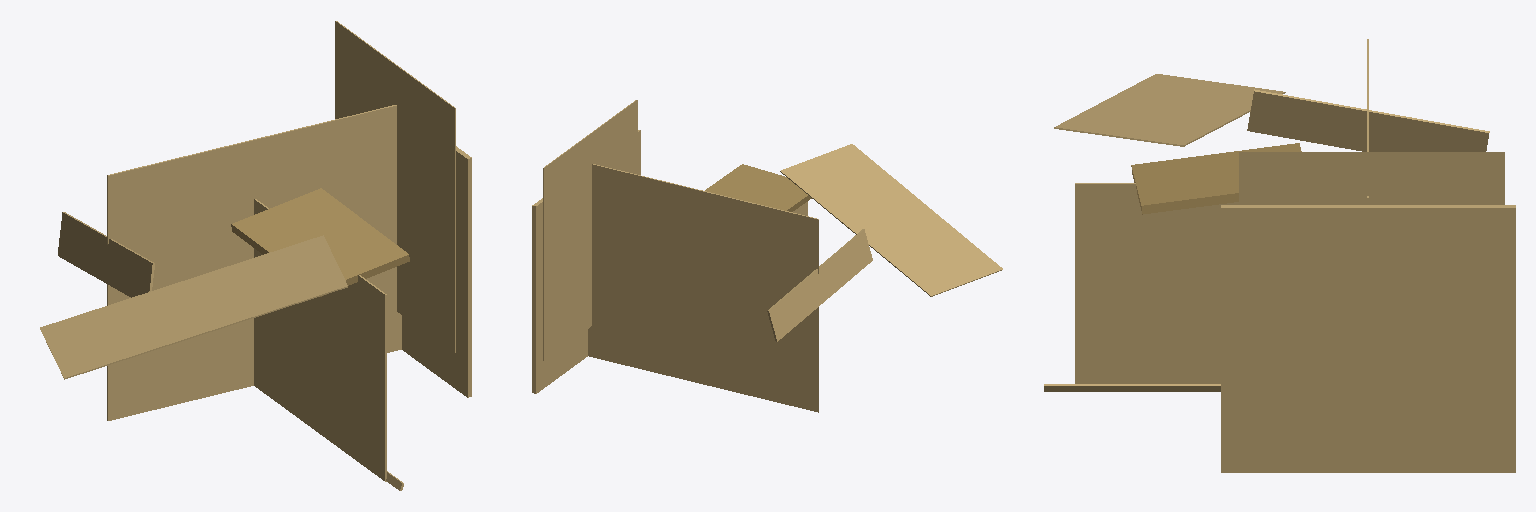
URDF robot description (evolved_design):
<?xml version="1.0" ?>
<robot name="evolved_design">
  <link name="base_link">
    <inertial>
      <mass value="0.001"/>
      <origin xyz="0 0 0" rpy="0 0 0"/>
      <inertia ixx="0.000001" ixy="0" ixz="0" iyy="0.000001" iyz="0" izz="0.000001"/>
    </inertial>
  </link>
  <link name="link_comp_0">
    <inertial>
      <mass value="0.838824"/>
      <origin xyz="0 0 0" rpy="0 0 0"/>
      <inertia ixx="0.039485466" ixy="0" ixz="0" iyy="0.015063259" iyz="0" izz="0.024425033"/>
    </inertial>
    <visual>
      <origin xyz="0 0 0" rpy="0 0 0"/>
      <geometry>
        <box size="0.004496 0.591099 0.464189"/>
      </geometry>
      <material name="link_comp_0_material">
        <color rgba="0.8 0.7 0.5 1"/>
      </material>
    </visual>
    <collision>
      <origin xyz="0 0 0" rpy="0 0 0"/>
      <geometry>
        <box size="0.004496 0.591099 0.464189"/>
      </geometry>
    </collision>
  </link>
  <joint name="base_link_to_link_comp_0" type="fixed">
    <parent link="base_link"/>
    <child link="link_comp_0"/>
    <origin xyz="0.002248 0.295550 0.232094" rpy="0.000000 0.000000 0.000000"/>
  </joint>
  <link name="link_comp_1">
    <inertial>
      <mass value="1.500321"/>
      <origin xyz="0 0 0" rpy="0 0 0"/>
      <inertia ixx="0.046464279" ixy="0" ixz="0" iyy="0.119057487" iyz="0" izz="0.072598849"/>
    </inertial>
    <visual>
      <origin xyz="0 0 0" rpy="0 0 0"/>
      <geometry>
        <box size="0.762000 0.004750 0.609600"/>
      </geometry>
      <material name="link_comp_1_material">
        <color rgba="0.8 0.7 0.5 1"/>
      </material>
    </visual>
    <collision>
      <origin xyz="0 0 0" rpy="0 0 0"/>
      <geometry>
        <box size="0.762000 0.004750 0.609600"/>
      </geometry>
    </collision>
  </link>
  <joint name="base_link_to_link_comp_1" type="fixed">
    <parent link="base_link"/>
    <child link="link_comp_1"/>
    <origin xyz="0.002716 0.593974 0.304800" rpy="0.000000 0.000000 0.000000"/>
  </joint>
  <link name="link_comp_2">
    <inertial>
      <mass value="0.212601"/>
      <origin xyz="0 0 0" rpy="0 0 0"/>
      <inertia ixx="0.004343697" ixy="0" ixz="0" iyy="0.000183588" iyz="0" izz="0.004161537"/>
    </inertial>
    <visual>
      <origin xyz="0 0 0" rpy="0 0 0"/>
      <geometry>
        <box size="0.006350 0.484616 0.101598"/>
      </geometry>
      <material name="link_comp_2_material">
        <color rgba="0.8 0.7 0.5 1"/>
      </material>
    </visual>
    <collision>
      <origin xyz="0 0 0" rpy="0 0 0"/>
      <geometry>
        <box size="0.006350 0.484616 0.101598"/>
      </geometry>
    </collision>
  </link>
  <joint name="base_link_to_link_comp_2" type="fixed">
    <parent link="base_link"/>
    <child link="link_comp_2"/>
    <origin xyz="-0.381959 0.594301 0.401203" rpy="-0.157783 0.189511 -0.115635"/>
  </joint>
  <link name="link_comp_3">
    <inertial>
      <mass value="0.667781"/>
      <origin xyz="0 0 0" rpy="0 0 0"/>
      <inertia ixx="0.036755775" ixy="0" ixz="0" iyy="0.020680131" iyz="0" izz="0.016076644"/>
    </inertial>
    <visual>
      <origin xyz="0 0 0" rpy="0 0 0"/>
      <geometry>
        <box size="0.002997 0.537483 0.609600"/>
      </geometry>
      <material name="link_comp_3_material">
        <color rgba="0.8 0.7 0.5 1"/>
      </material>
    </visual>
    <collision>
      <origin xyz="0 0 0" rpy="0 0 0"/>
      <geometry>
        <box size="0.002997 0.537483 0.609600"/>
      </geometry>
    </collision>
  </link>
  <joint name="base_link_to_link_comp_3" type="fixed">
    <parent link="base_link"/>
    <child link="link_comp_3"/>
    <origin xyz="0.373635 0.601388 0.402598" rpy="0.000000 0.000000 0.000000"/>
  </joint>
  <link name="link_comp_4">
    <inertial>
      <mass value="0.402039"/>
      <origin xyz="0 0 0" rpy="0 0 0"/>
      <inertia ixx="0.002556598" ixy="0" ixz="0" iyy="0.015226902" iyz="0" izz="0.017782824"/>
    </inertial>
    <visual>
      <origin xyz="0 0 0" rpy="0 0 0"/>
      <geometry>
        <box size="0.674151 0.276222 0.003175"/>
      </geometry>
      <material name="link_comp_4_material">
        <color rgba="0.8 0.7 0.5 1"/>
      </material>
    </visual>
    <collision>
      <origin xyz="0 0 0" rpy="0 0 0"/>
      <geometry>
        <box size="0.674151 0.276222 0.003175"/>
      </geometry>
    </collision>
  </link>
  <joint name="base_link_to_link_comp_4" type="fixed">
    <parent link="base_link"/>
    <child link="link_comp_4"/>
    <origin xyz="-0.386332 0.191987 0.445941" rpy="0.000000 -0.253033 -0.321895"/>
  </joint>
  <link name="link_comp_6">
    <inertial>
      <mass value="3.057755"/>
      <origin xyz="0 0 0" rpy="0 0 0"/>
      <inertia ixx="0.180447841" ixy="0" ixz="0" iyy="0.089643326" iyz="0" izz="0.090886713"/>
    </inertial>
    <visual>
      <origin xyz="0 0 0" rpy="0 0 0"/>
      <geometry>
        <box size="0.012700 0.597092 0.592992"/>
      </geometry>
      <material name="link_comp_6_material">
        <color rgba="0.8 0.7 0.5 1"/>
      </material>
    </visual>
    <collision>
      <origin xyz="0 0 0" rpy="0 0 0"/>
      <geometry>
        <box size="0.012700 0.597092 0.592992"/>
      </geometry>
    </collision>
  </link>
  <joint name="base_link_to_link_comp_6" type="fixed">
    <parent link="base_link"/>
    <child link="link_comp_6"/>
    <origin xyz="0.390566 0.593625 0.296496" rpy="0.000000 0.000000 0.000000"/>
  </joint>
  <link name="link_comp_7">
    <inertial>
      <mass value="0.050144"/>
      <origin xyz="0 0 0" rpy="0 0 0"/>
      <inertia ixx="0.001554373" ixy="0" ixz="0" iyy="0.000001685" iyz="0" izz="0.001553025"/>
    </inertial>
    <visual>
      <origin xyz="0 0 0" rpy="0 0 0"/>
      <geometry>
        <box size="0.006350 0.609600 0.019050"/>
      </geometry>
      <material name="link_comp_7_material">
        <color rgba="0.8 0.7 0.5 1"/>
      </material>
    </visual>
    <collision>
      <origin xyz="0 0 0" rpy="0 0 0"/>
      <geometry>
        <box size="0.006350 0.609600 0.019050"/>
      </geometry>
    </collision>
  </link>
  <joint name="base_link_to_link_comp_7" type="fixed">
    <parent link="base_link"/>
    <child link="link_comp_7"/>
    <origin xyz="0.008171 0.242731 0.009525" rpy="0.000000 0.390684 0.000000"/>
  </joint>
  <link name="link_comp_8">
    <inertial>
      <mass value="1.105250"/>
      <origin xyz="0 0 0" rpy="0 0 0"/>
      <inertia ixx="0.010932444" ixy="0" ixz="0" iyy="0.005699530" iyz="0" izz="0.016565124"/>
    </inertial>
    <visual>
      <origin xyz="0 0 0" rpy="0 0 0"/>
      <geometry>
        <box size="0.248029 0.343997 0.019050"/>
      </geometry>
      <material name="link_comp_8_material">
        <color rgba="0.7 0.6 0.4 1"/>
      </material>
    </visual>
    <collision>
      <origin xyz="0 0 0" rpy="0 0 0"/>
      <geometry>
        <box size="0.248029 0.343997 0.019050"/>
      </geometry>
    </collision>
  </link>
  <joint name="base_link_to_link_comp_8" type="fixed">
    <parent link="base_link"/>
    <child link="link_comp_8"/>
    <origin xyz="0.002248 0.295550 0.474214" rpy="0.100901 -0.095117 0.083808"/>
  </joint>
</robot>

--- Facts derived from the render (not from the file) ---
The picture shows the robot from 3 angles, left to right: view 1: azimuth 30°, elevation 25°; view 2: azimuth 150°, elevation 25°; view 3: azimuth 270°, elevation 25°; orthographic projection.
Robot: evolved_design — 9 links, 8 joints (8 fixed); root link base_link; default pose: every joint at zero.
Links seen in each view (by area): view 1: link_comp_1, link_comp_3, link_comp_0, link_comp_4, link_comp_8, link_comp_6, link_comp_2; view 2: link_comp_1, link_comp_4, link_comp_3, link_comp_2, link_comp_6, link_comp_8; view 3: link_comp_6, link_comp_0, link_comp_3, link_comp_4, link_comp_2, link_comp_8, link_comp_7.
Boxes of the visible links, x1,y1,x2,y2 form: link_comp_1: (107,105,401,420); link_comp_3: (335,21,455,353); link_comp_0: (254,199,386,481); link_comp_4: (40,235,347,379); link_comp_8: (231,188,409,296); link_comp_6: (402,146,471,397); link_comp_2: (58,212,154,297); link_comp_1: (588,164,818,412); link_comp_4: (780,144,1002,296); link_comp_3: (543,100,637,360); link_comp_2: (767,229,872,341); link_comp_6: (532,130,640,393); link_comp_8: (705,164,811,211); link_comp_6: (1221,205,1515,472); link_comp_0: (1075,183,1238,383); link_comp_3: (1239,152,1504,204); link_comp_4: (1054,74,1285,146); link_comp_2: (1247,89,1489,151); link_comp_8: (1131,143,1301,214); link_comp_7: (1044,384,1220,391).
Bounding box of the posed robot: 1.14 × 0.9542 × 0.7079 m (x, y, z).
Geometry: primitives only (box / cylinder / sphere), no mesh files.